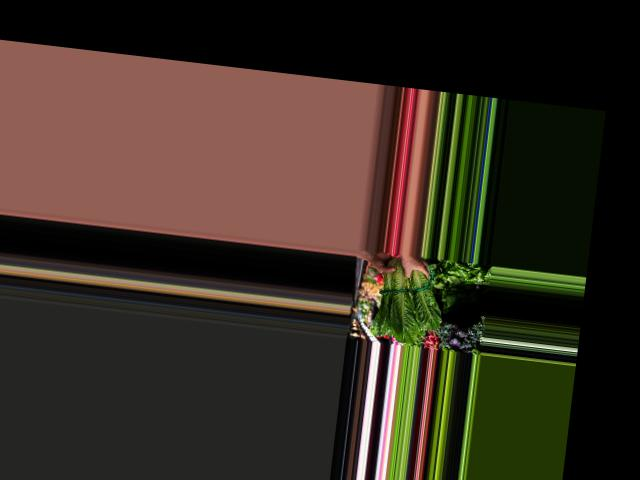lettuce: (373, 251, 449, 343)
